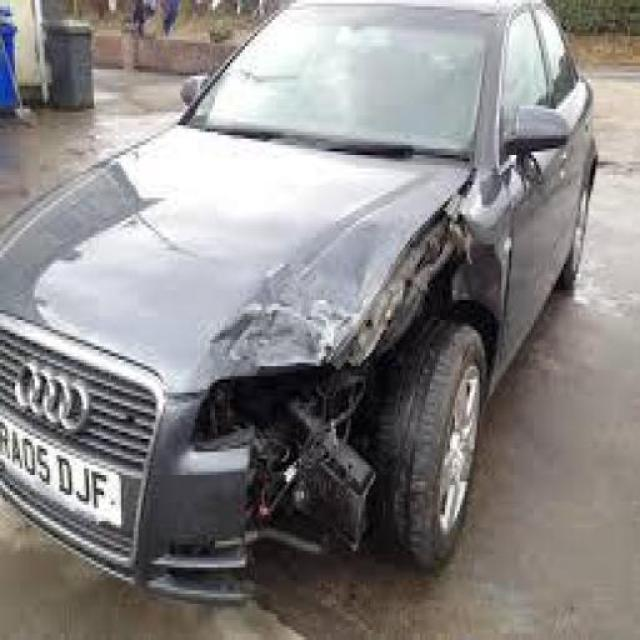crush: (193, 184, 518, 607)
